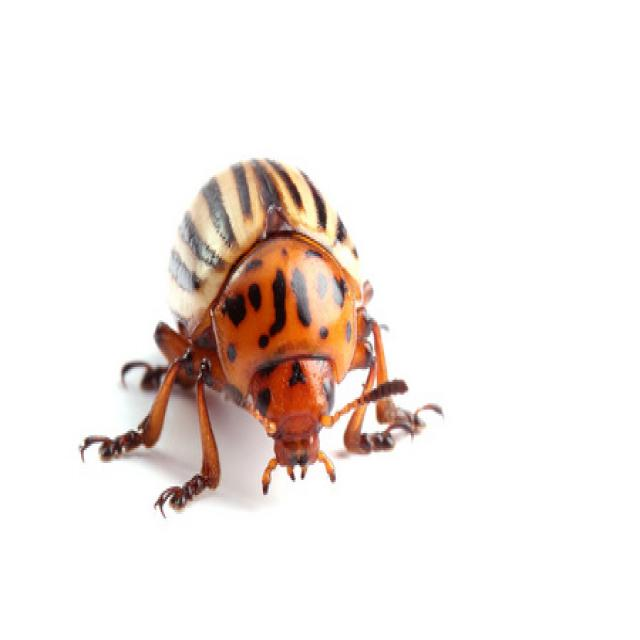ShuCaiHuaBanChong-Grown-: (152, 136, 424, 528)
